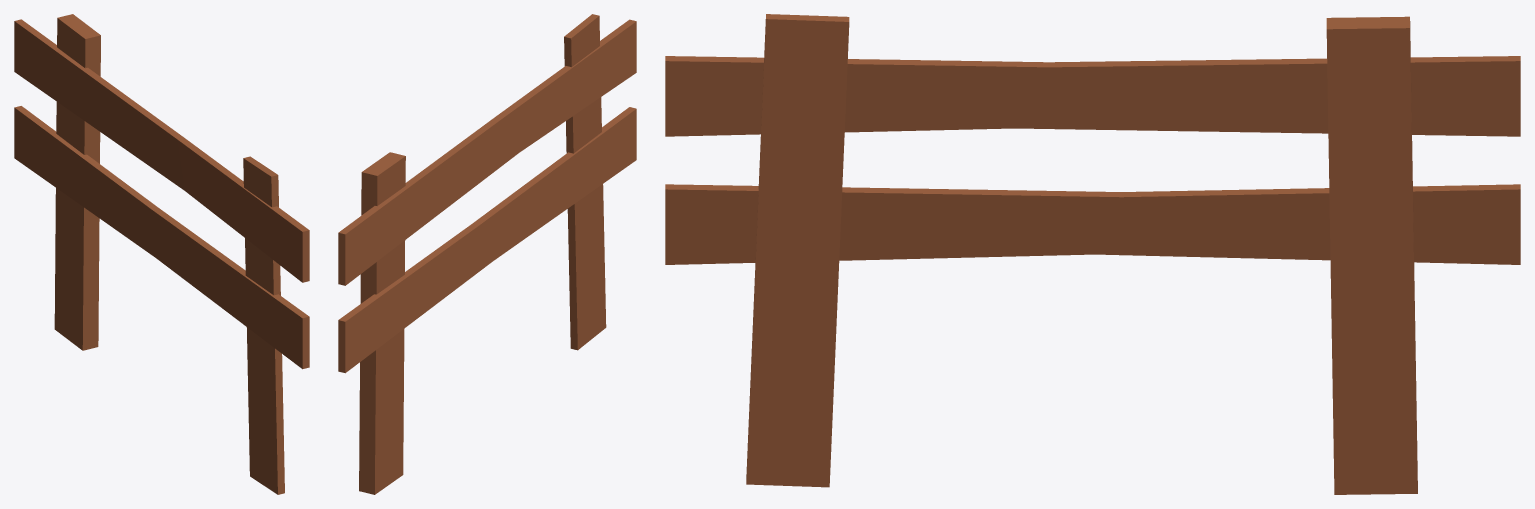
Rendered from cit.fbx.
The picture shows the model from 3 angles, left to right: view 1: azimuth 30°, elevation 25°; view 2: azimuth 150°, elevation 25°; view 3: azimuth 270°, elevation 25°; orthographic projection. The views are drawn at different scales.
Visible parts, largest first — view 1: Cube.001; view 2: Cube.001; view 3: Cube.001.
Boxes of the visible parts, left/top/right/bottom form: Cube.001: left=14, top=14, right=309, bottom=494; Cube.001: left=338, top=14, right=636, bottom=494; Cube.001: left=665, top=14, right=1520, bottom=494.
Bounding box in the file's own units: 34.46 × 443 × 733.
